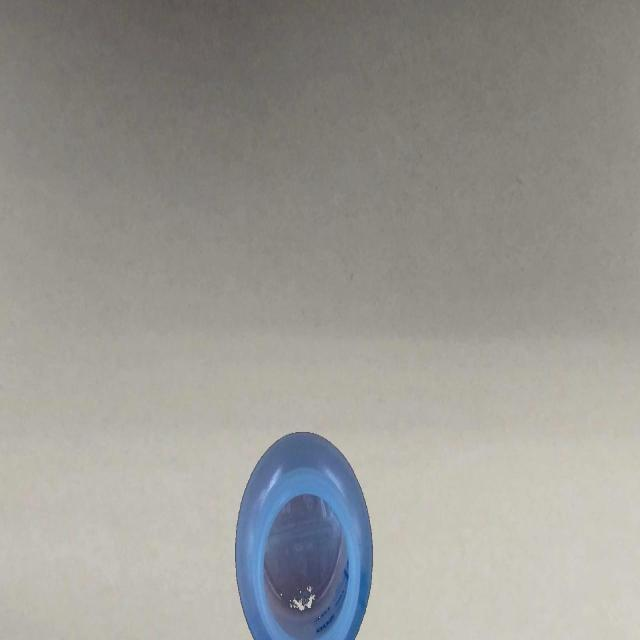bottle: (236, 429, 376, 640)
